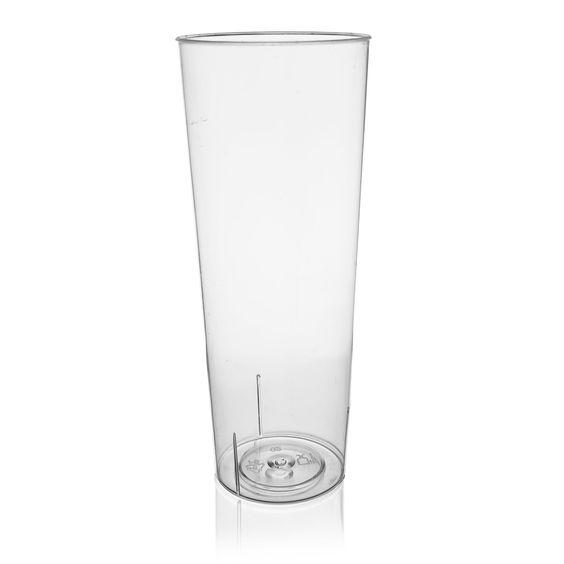PS: (179, 29, 370, 508)
